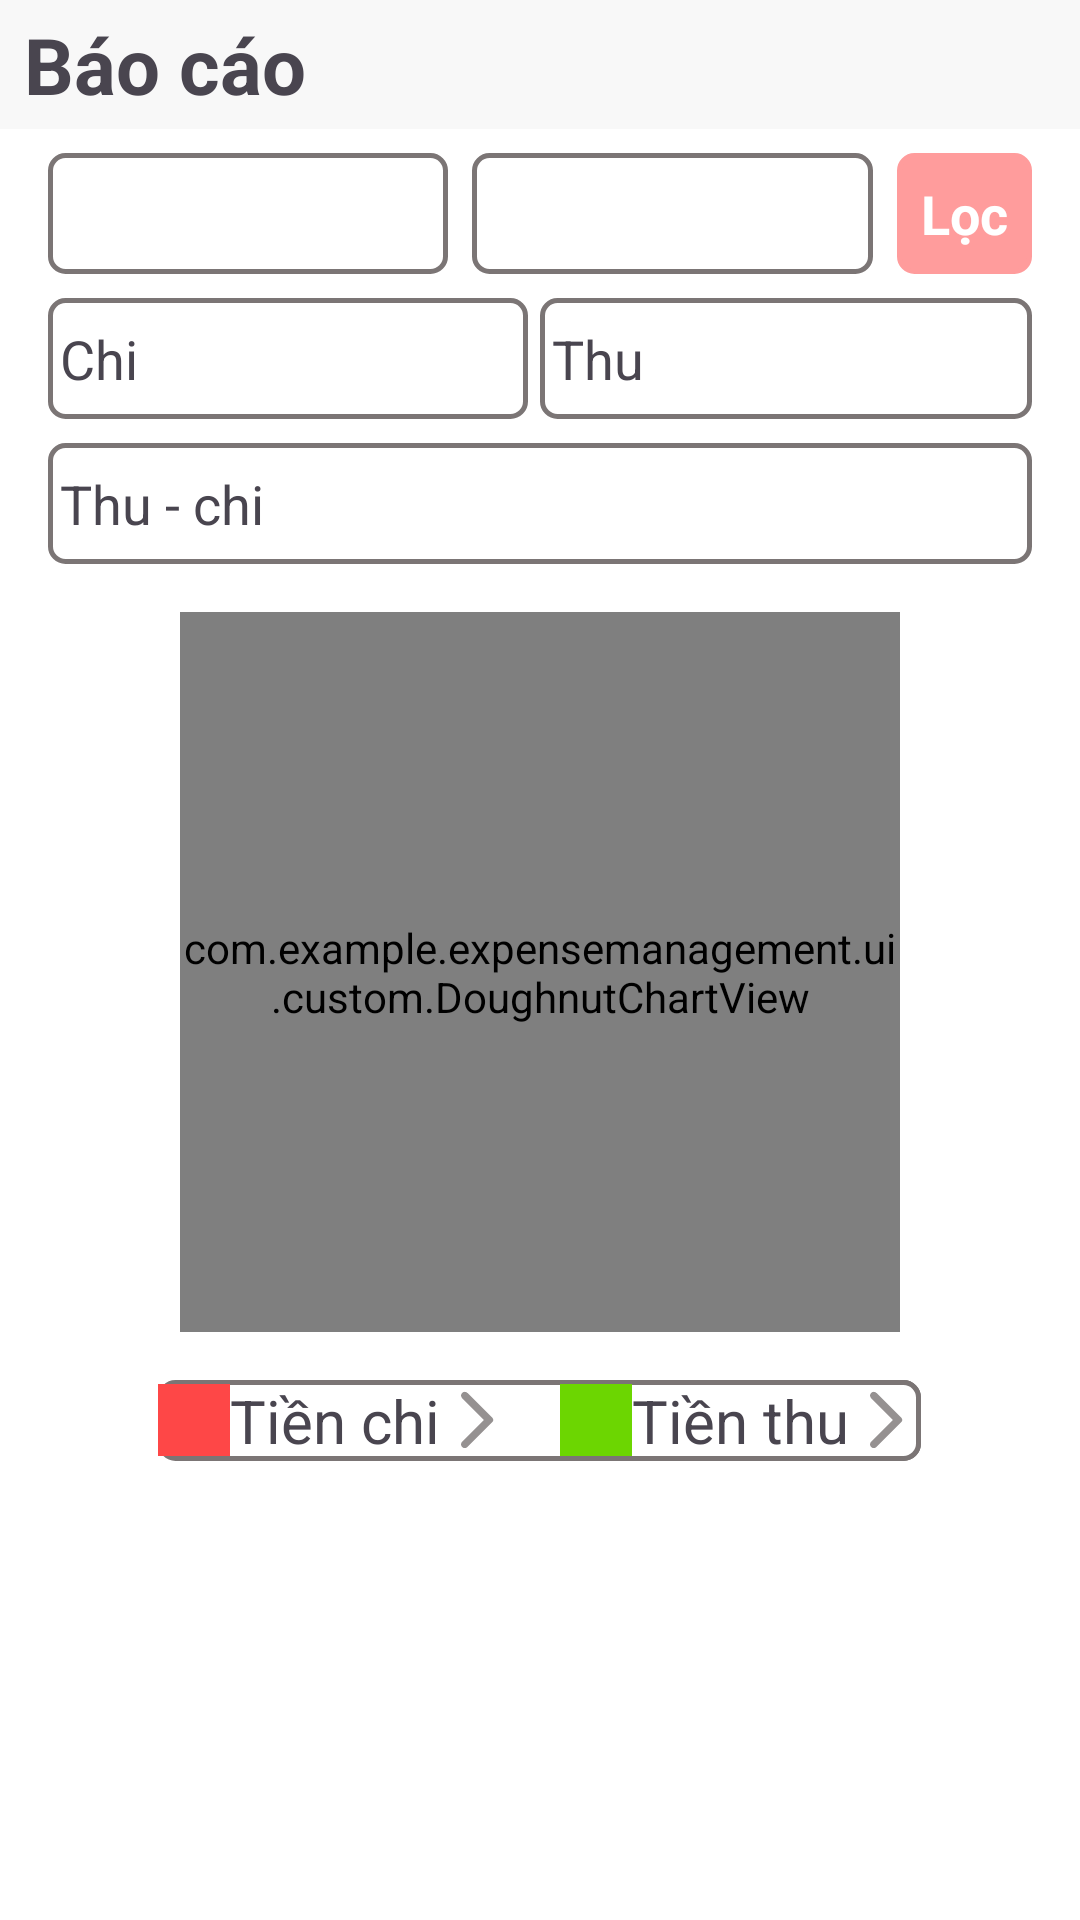

Named icons in this screenshot (1080w x 1920h) and their centers, point (x, y):
arrow forward: point (476, 1420), point (886, 1420)
